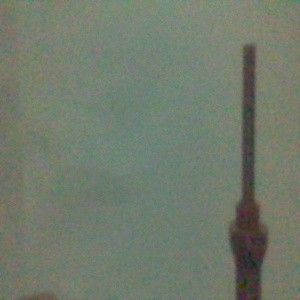obeng: (227, 43, 270, 300)
